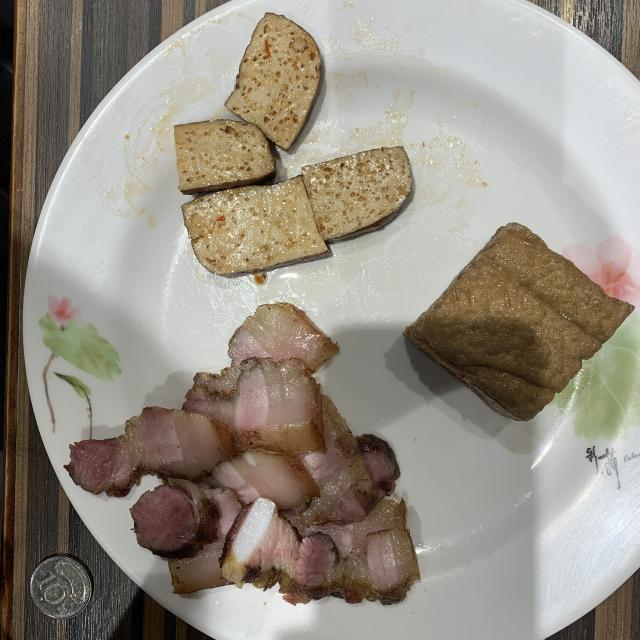coin: (30, 555, 91, 619)
egg tofu: (405, 222, 634, 420)
firm tofu: (174, 12, 412, 275)
grilled pork: (65, 302, 419, 604)
